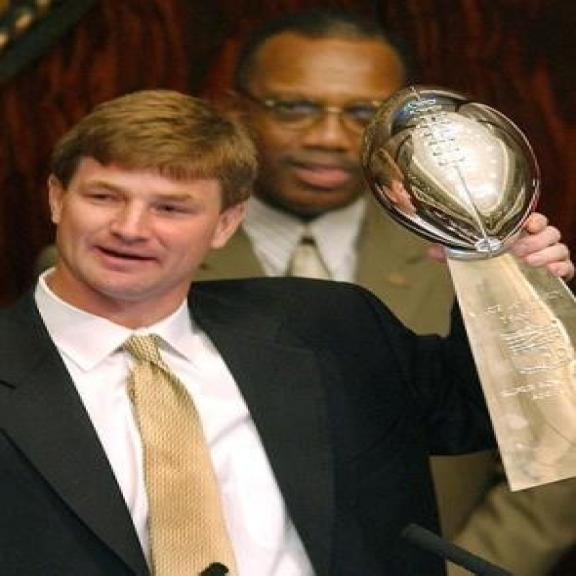face: (239, 35, 420, 215), (48, 151, 246, 293)
